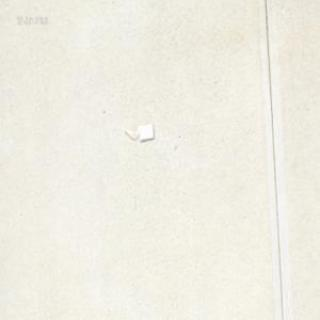LuggageTagtrack_idkeyframe: (121, 122, 153, 140)
